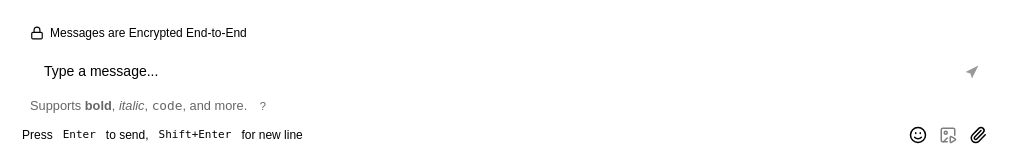
Test: MessageInput :shortcode emoji autocomplete integration (#1754) › shows the emoji autocomplete when typing an active :query
This screenshot has width=1021, height=167.
Type ":sm" into the text box with placeholder "Type a message..." at (496, 72), box [44,55,948,89]
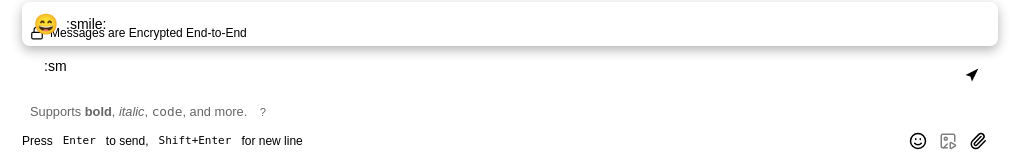
expect the list with class "emoji-autocomplete" is shown: met, box [22,2,998,46]
expect the text ":smile:" is shown: met, box [66,16,106,32]
